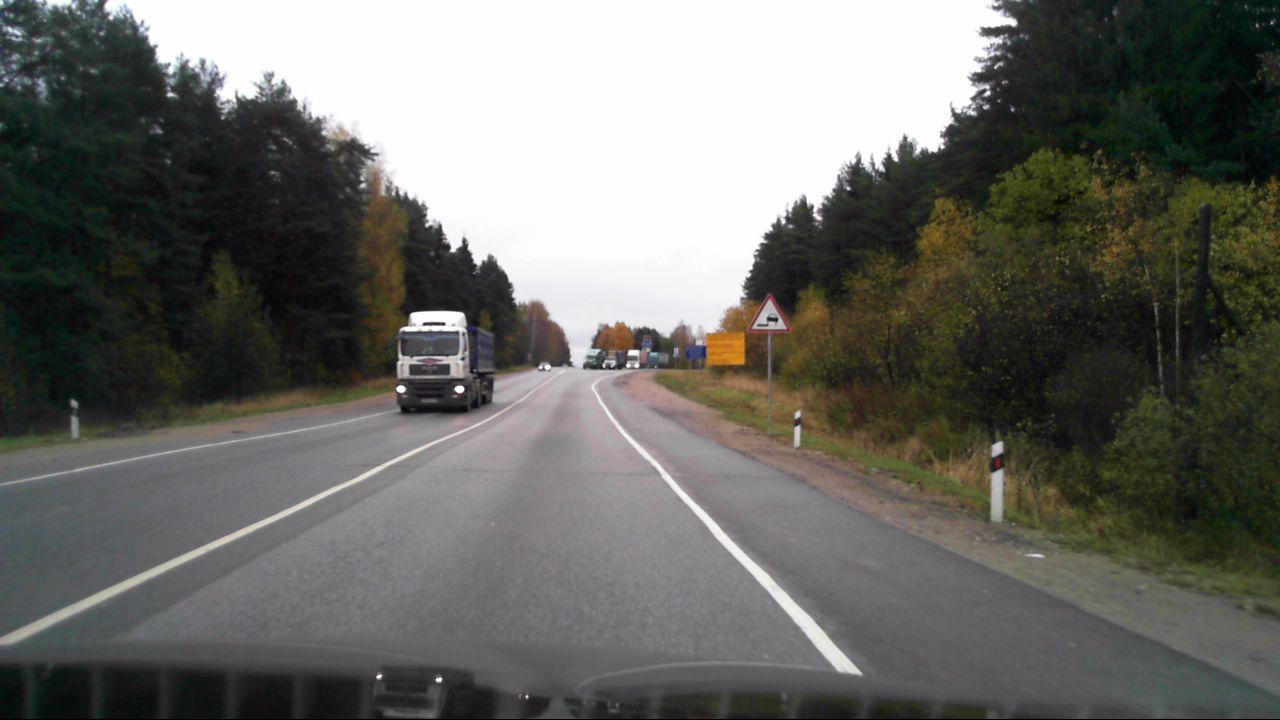1_19: (749, 294, 790, 333)
